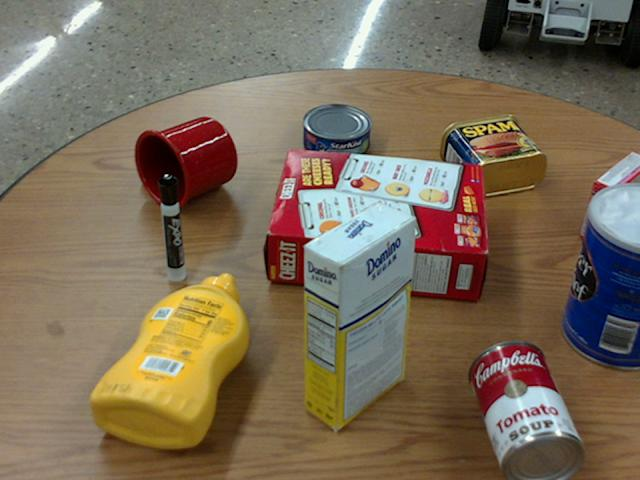cracker_box: (267, 148, 484, 297)
gelatin_box: (580, 152, 639, 244)
large_marker: (158, 173, 183, 280)
master_chef_can: (561, 183, 639, 368)
mug: (134, 116, 236, 209)
mustard_bottle: (91, 273, 248, 446)
potted_meat_can: (440, 115, 546, 194)
sugar_box: (304, 203, 415, 428)
tomato_soup_can: (469, 339, 584, 479)
tuna_fish_can: (303, 103, 371, 159)
